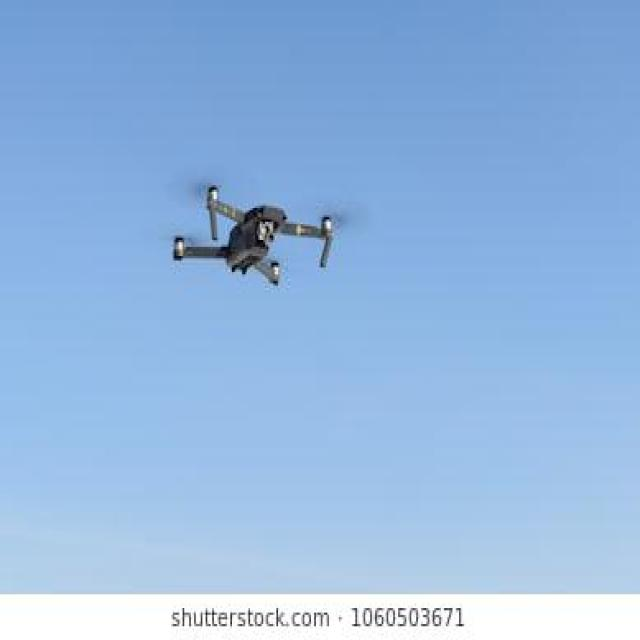drone: (158, 148, 376, 313)
